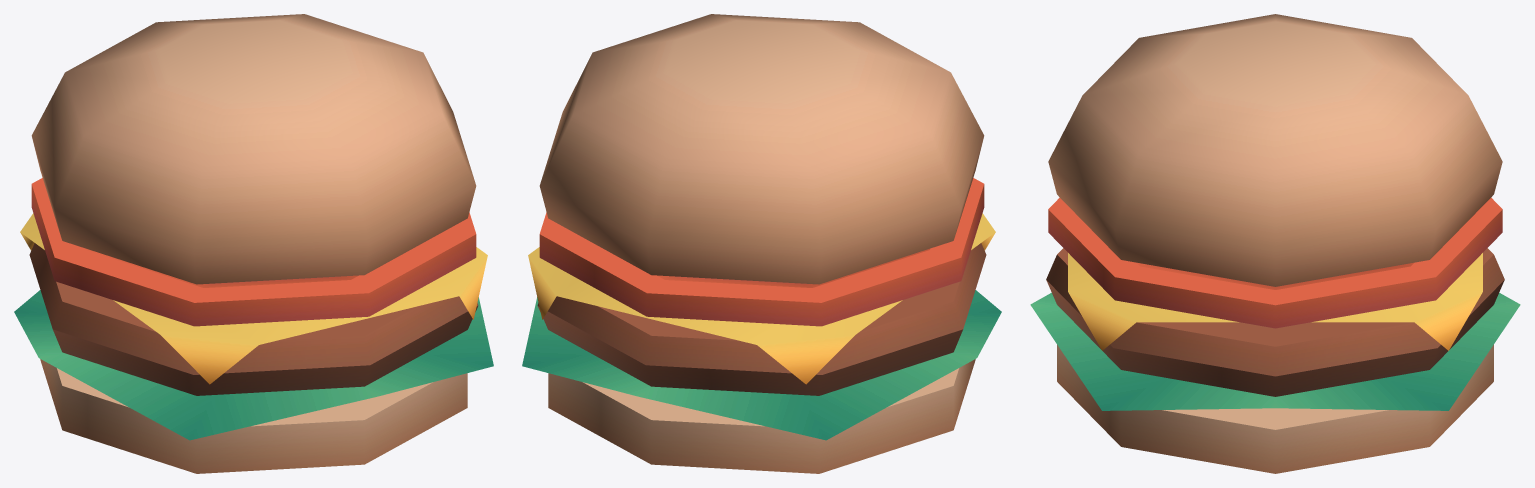
File: k-food-burger.glb
3 views of the same model, side by side, from view 1: azimuth 30°, elevation 25°; view 2: azimuth 150°, elevation 25°; view 3: azimuth 270°, elevation 25° (orthographic).
Visible parts, largest first — view 1: bun-top, patty, bun-bottom, tomato, salad, cheese; view 2: bun-top, patty, bun-bottom, tomato, salad, cheese; view 3: bun-top, patty, tomato, bun-bottom, salad, cheese.
Boxes of the visible parts, x1,y1,x2,y2 form: bun-top: (31, 14, 476, 284); patty: (29, 243, 478, 395); bun-bottom: (40, 359, 467, 473); tomato: (31, 178, 476, 326); salad: (14, 290, 493, 440); cheese: (20, 213, 487, 384); bun-top: (539, 14, 984, 284); patty: (537, 243, 986, 395); bun-bottom: (548, 359, 975, 473); tomato: (539, 178, 984, 326); salad: (522, 290, 1001, 440); cheese: (528, 213, 995, 384); bun-top: (1048, 14, 1502, 286); patty: (1046, 248, 1504, 396); tomato: (1048, 197, 1502, 328); bun-bottom: (1057, 344, 1493, 473); salad: (1030, 292, 1520, 410); cheese: (1068, 253, 1482, 350).
Bounding box in the file's own units: 0.4041 × 0.29 × 0.4041.
Materials: 1 (1 with a texture image).
